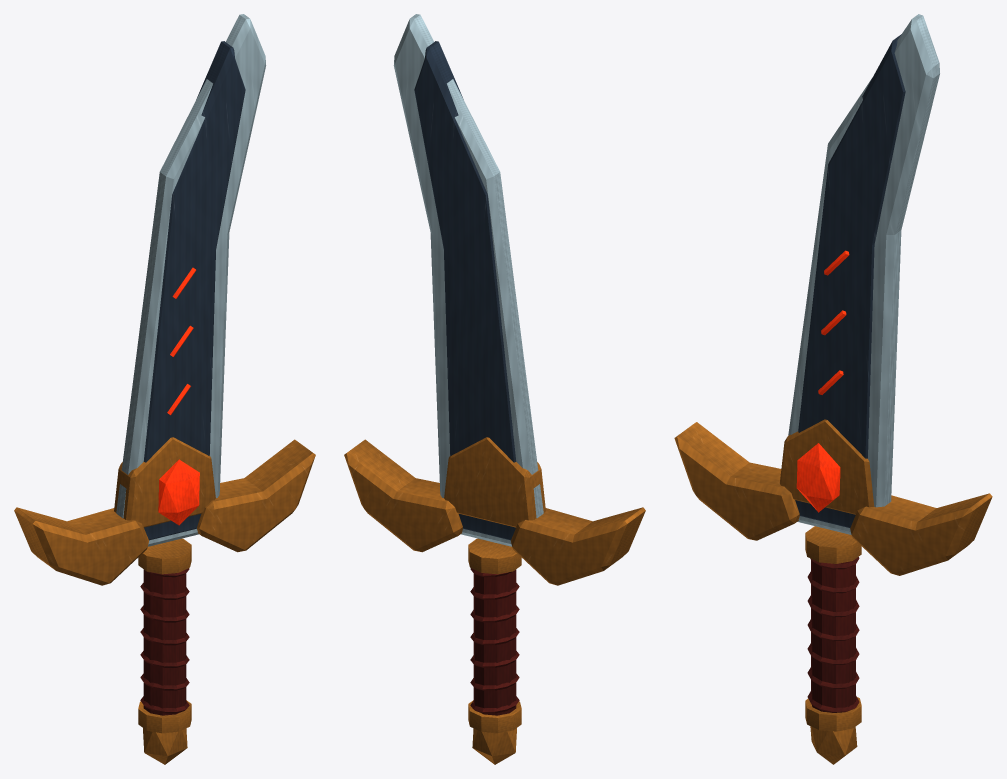
File: sword-t2.glb
The picture shows the model from 3 angles, left to right: view 1: azimuth 30°, elevation 25°; view 2: azimuth 150°, elevation 25°; view 3: azimuth 330°, elevation 25°; orthographic projection. The views are drawn at different scales.
Parts seen in each view (by area): view 1: Sculpted blade core, Cutting edge, Forged guard.001, Forged guard, Leather grip, Blade collar, Set jewel, Grip ferrule.001, Faceted pommel, Grip ferrule; view 2: Sculpted blade core, Cutting edge, Forged guard.001, Forged guard, Blade collar, Leather grip, Grip ferrule.001, Faceted pommel, Grip ferrule; view 3: Sculpted blade core, Cutting edge, Forged guard, Forged guard.001, Leather grip, Blade collar, Set jewel, Grip ferrule.001, Faceted pommel, Grip ferrule.
Part boxes in pixels (bbox=[...]): Sculpted blade core: bbox=[143, 41, 245, 540]; Cutting edge: bbox=[116, 14, 266, 546]; Forged guard.001: bbox=[197, 439, 315, 552]; Forged guard: bbox=[14, 507, 148, 585]; Leather grip: bbox=[143, 569, 186, 715]; Blade collar: bbox=[114, 437, 215, 527]; Set jewel: bbox=[158, 459, 199, 525]; Grip ferrule.001: bbox=[138, 538, 191, 574]; Faceted pommel: bbox=[143, 728, 187, 764]; Grip ferrule: bbox=[138, 700, 191, 733]; Sculpted blade core: bbox=[414, 41, 516, 540]; Cutting edge: bbox=[393, 14, 543, 546]; Forged guard.001: bbox=[344, 439, 462, 552]; Forged guard: bbox=[511, 507, 645, 585]; Blade collar: bbox=[444, 437, 545, 527]; Leather grip: bbox=[473, 569, 516, 715]; Grip ferrule.001: bbox=[468, 538, 521, 574]; Faceted pommel: bbox=[472, 728, 516, 764]; Grip ferrule: bbox=[468, 700, 521, 733]; Sculpted blade core: bbox=[795, 34, 905, 527]; Cutting edge: bbox=[788, 14, 939, 534]; Forged guard: bbox=[674, 422, 799, 540]; Forged guard.001: bbox=[850, 493, 992, 575]; Leather grip: bbox=[811, 560, 855, 712]; Blade collar: bbox=[779, 419, 874, 514]; Set jewel: bbox=[796, 443, 840, 512]; Grip ferrule.001: bbox=[805, 526, 861, 563]; Faceted pommel: bbox=[810, 726, 857, 764]; Grip ferrule: bbox=[805, 697, 861, 731].
Bounding box in the file's own units: 0.4678 × 1.15 × 0.0945.
1 material, 1 textured.
